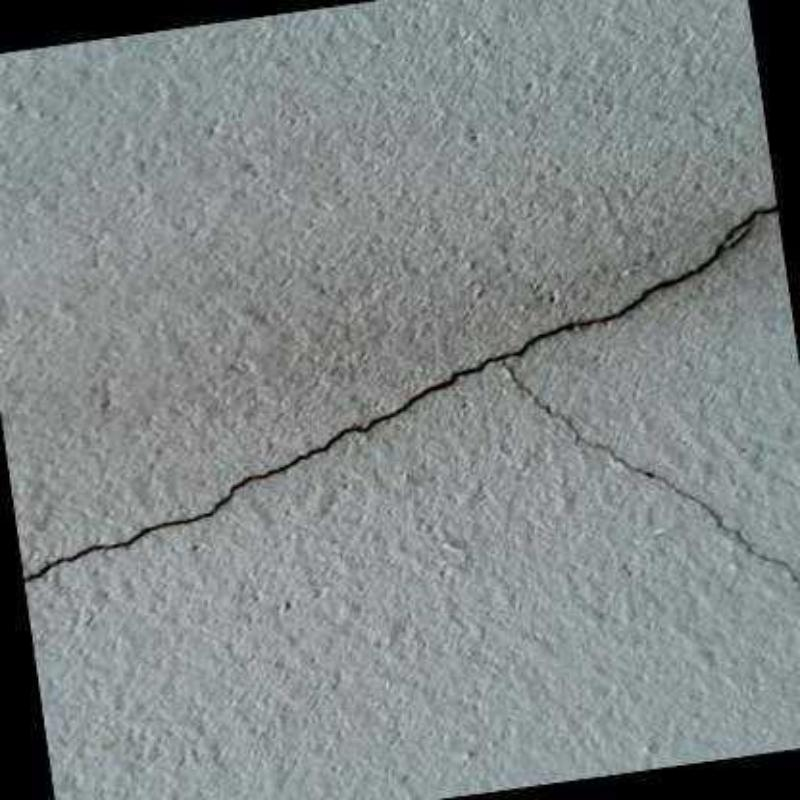pothole: (21, 205, 773, 585), (504, 363, 798, 588)
